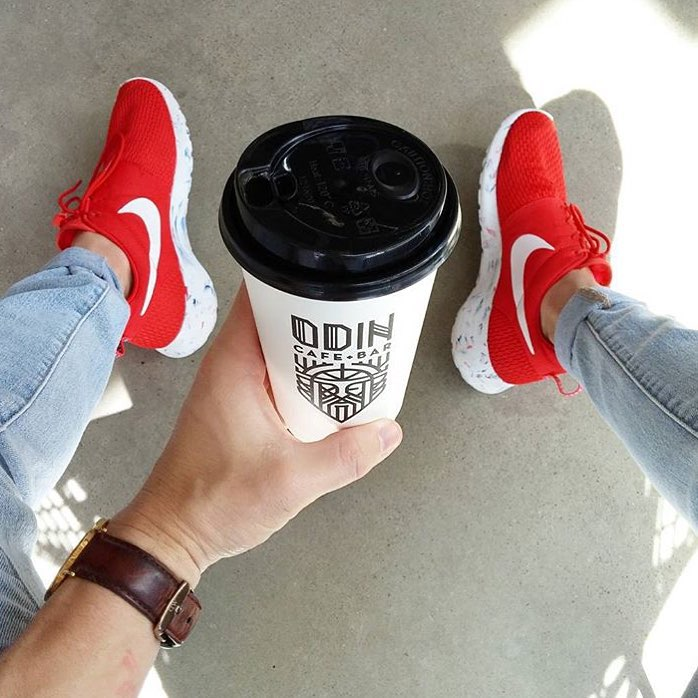sneaker: (38, 63, 232, 374), (442, 99, 626, 401)
